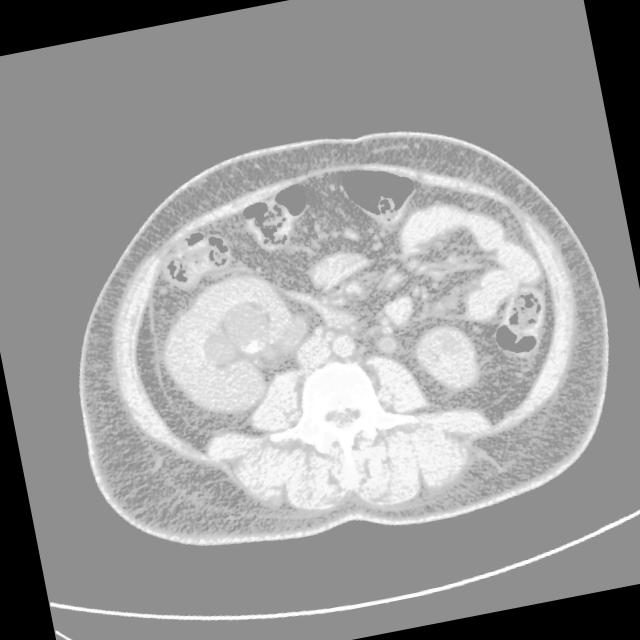STONE: (103, 90, 562, 423)
